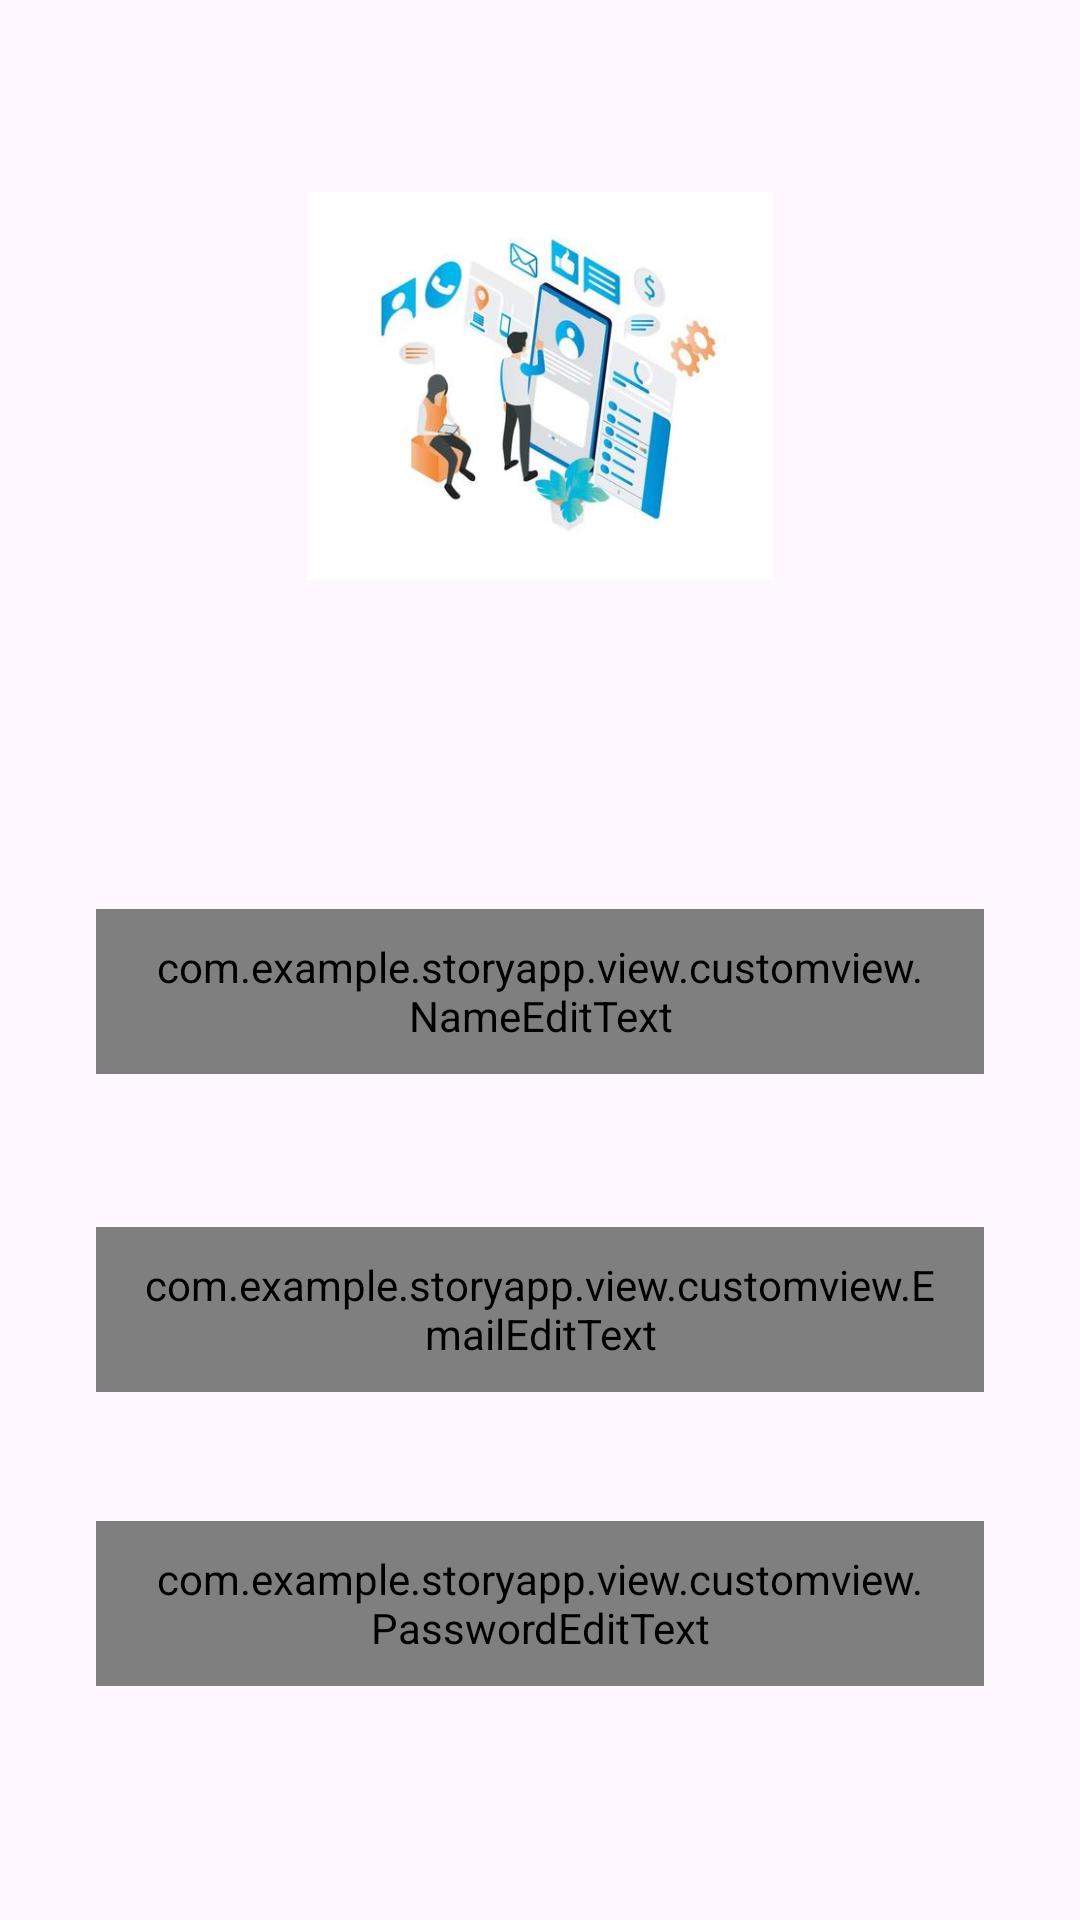

Where to tap for icons on this 1080*1920 app screen, as [x,y]:
registration apps: [548,383]
